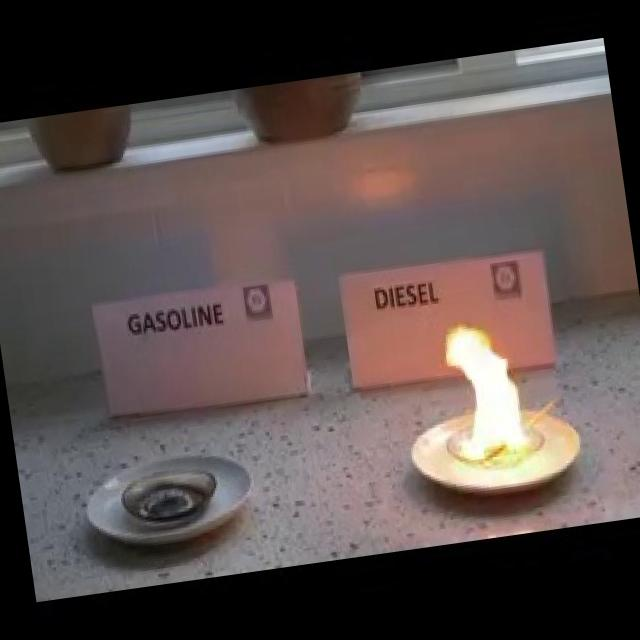Fire: (442, 311, 538, 470)
